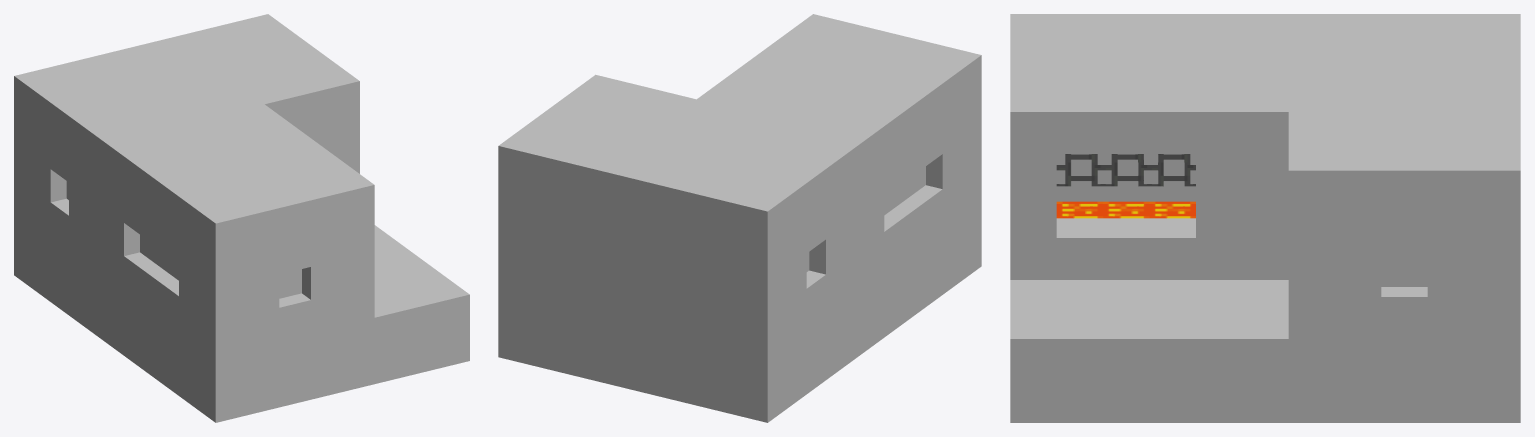
The model's file is forge.fbx.
3 views of the same model, side by side, from view 1: azimuth 30°, elevation 25°; view 2: azimuth 150°, elevation 25°; view 3: azimuth 270°, elevation 25° (orthographic). The views are drawn at different scales.
Parts seen in each view (by area): view 1: forge; view 2: forge; view 3: forge.
Boxes of the visible parts, x1=… form: forge: x1=14, y1=14, x2=469, y2=422; forge: x1=498, y1=14, x2=981, y2=422; forge: x1=1010, y1=14, x2=1520, y2=422.
Size of the model in its own units: 800 by 600 by 1100.
